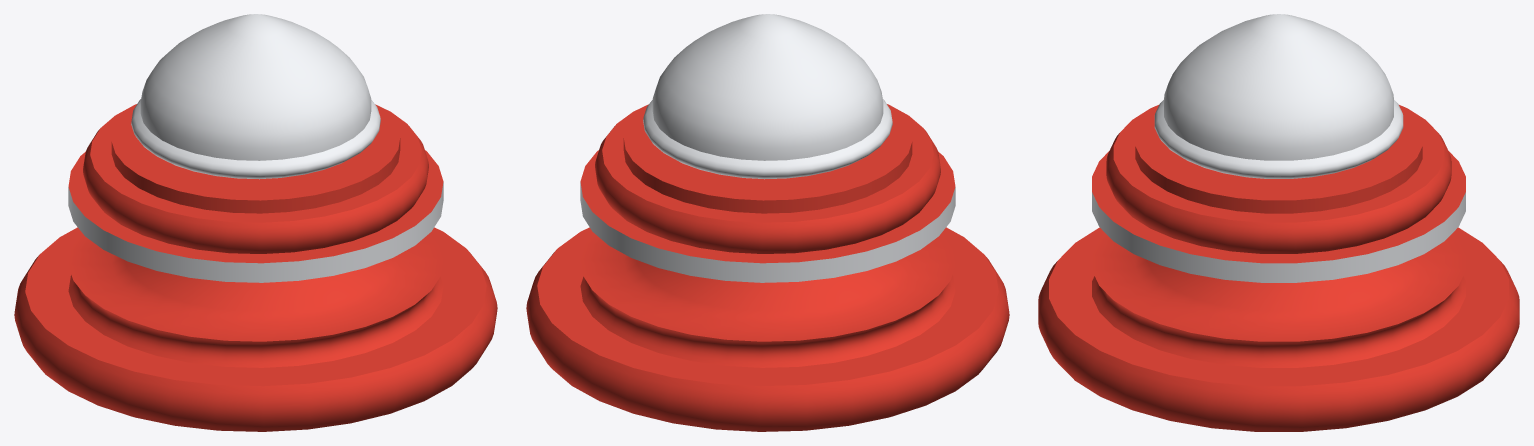
The model's file is pawn_cap-classic.glb.
The picture shows the model from 3 angles, left to right: view 1: azimuth 30°, elevation 25°; view 2: azimuth 150°, elevation 25°; view 3: azimuth 270°, elevation 25°; orthographic projection.
Visible parts, largest first — view 1: pawn_cap-classic; view 2: pawn_cap-classic; view 3: pawn_cap-classic.
Part boxes in pixels (bbox=[...]): pawn_cap-classic: bbox=[14, 14, 497, 431]; pawn_cap-classic: bbox=[526, 14, 1009, 431]; pawn_cap-classic: bbox=[1038, 14, 1519, 431].
Bounding box in the file's own units: 0.2867 × 0.2107 × 0.2867.
